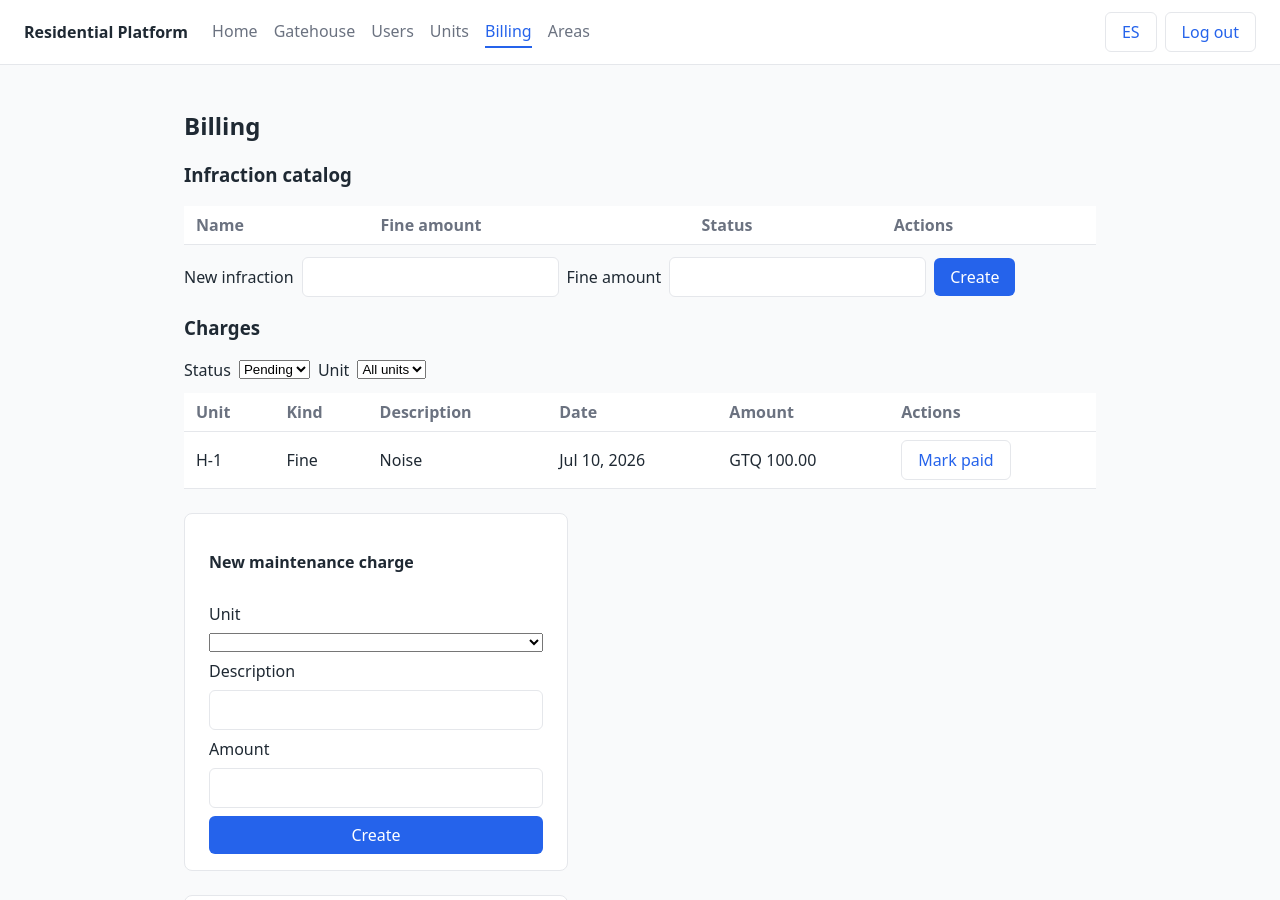
Scenario: admin pages › marks a pending charge as paid
This screenshot has width=1280, height=900.
Click the button "Mark paid".
click(956, 460)  # box [901, 440, 1011, 480]
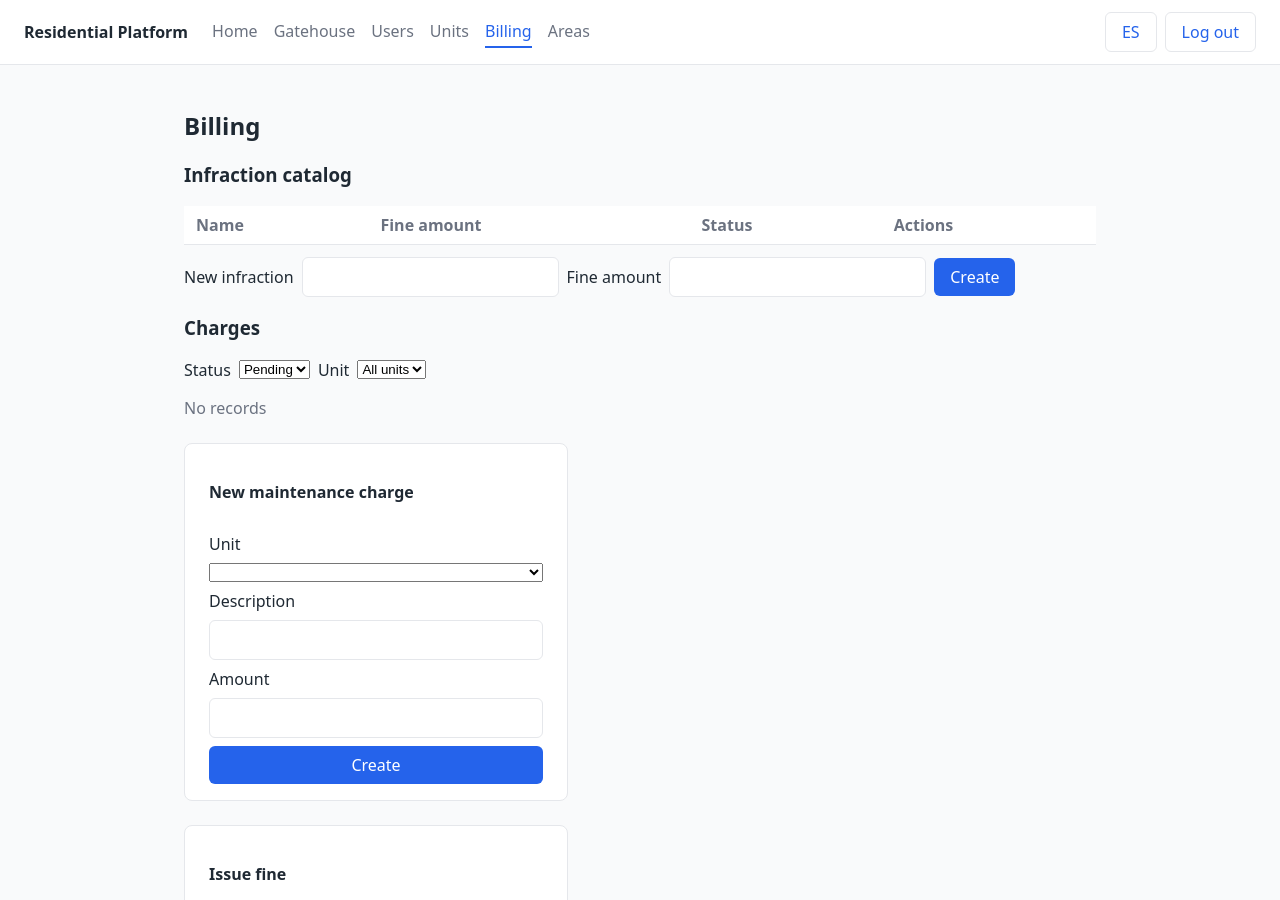
Expected: the text "No records" is shown, [184, 397, 266, 419]
